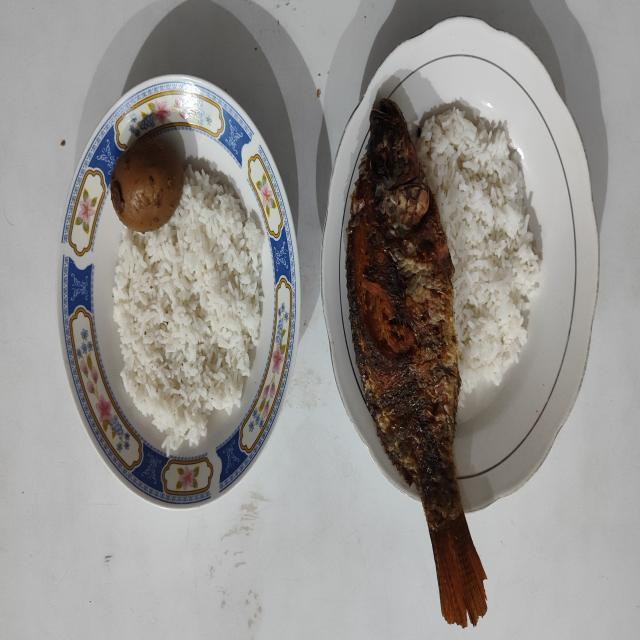ikan_mujair: (346, 99, 486, 628)
nasi_putih: (113, 164, 264, 450), (416, 106, 541, 409)
